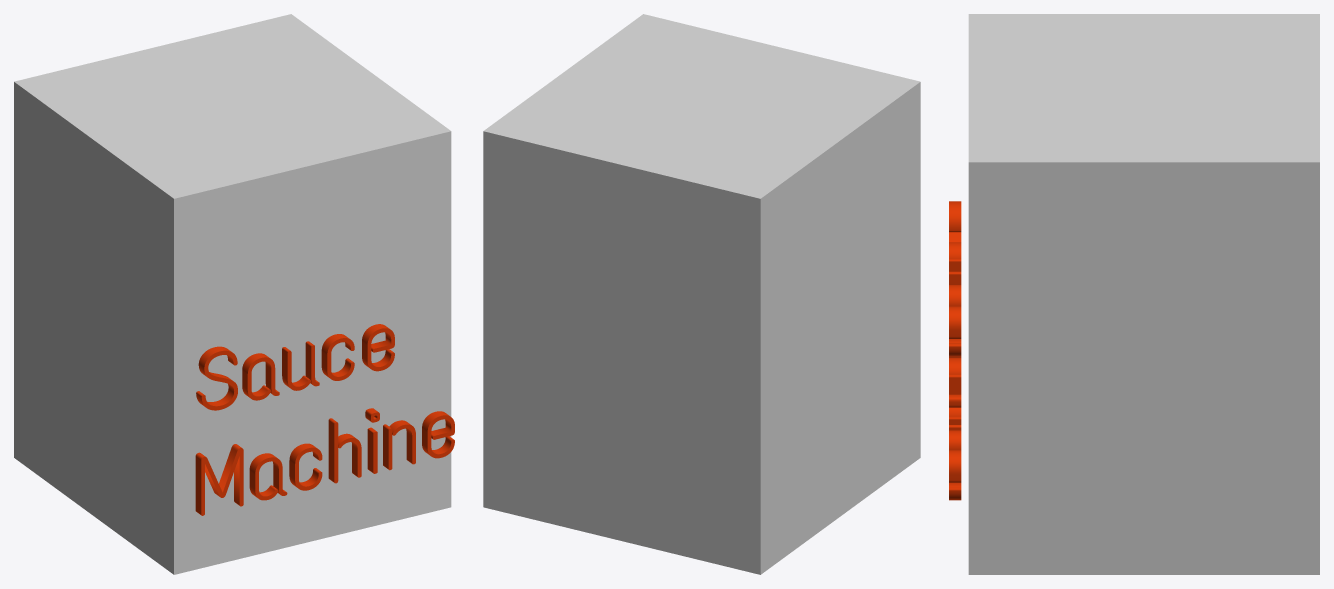
The model's file is SauceMachineNeon.fbx.
3 renders of one model, left to right at view 1: azimuth 30°, elevation 25°; view 2: azimuth 150°, elevation 25°; view 3: azimuth 270°, elevation 25°, orthographic. The views are drawn at different scales.
Visible parts, largest first — view 1: Cube, Text; view 2: Cube; view 3: Cube, Text.
Part boxes in pixels (x1,y1,x2,y2): Cube: (14,14,451,574); Text: (195,324,454,515); Cube: (483,14,920,574); Cube: (968,14,1319,574); Text: (949,201,961,500).
Bounding box in the file's own units: 200 × 259 × 211.
